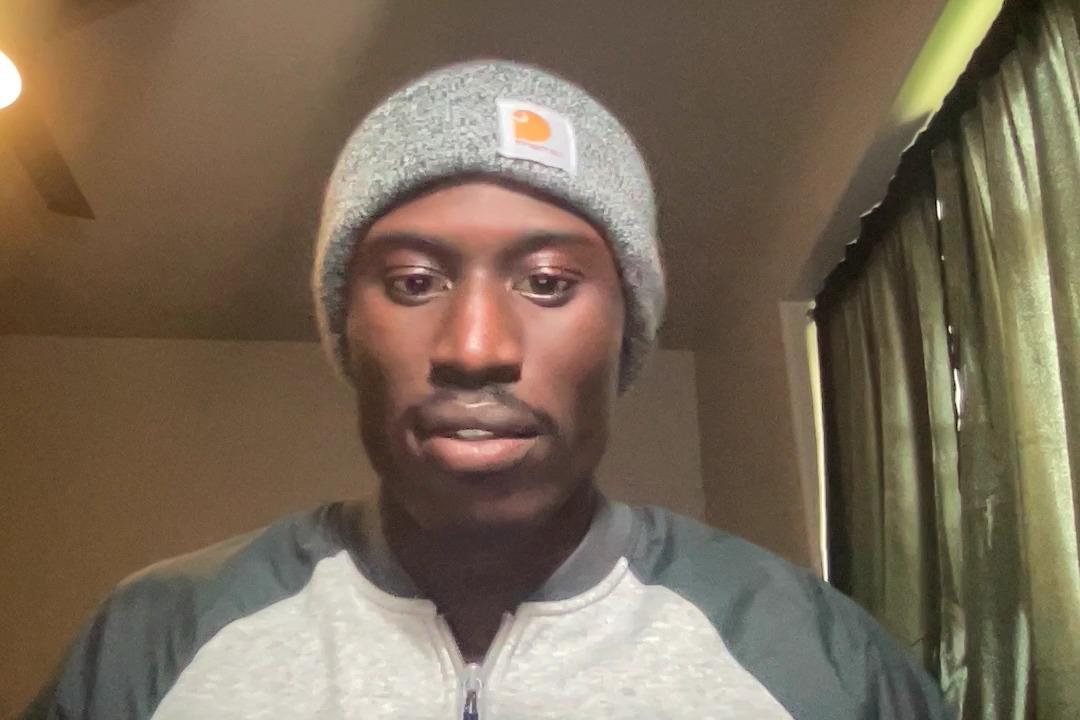face: (336, 158, 631, 557)
